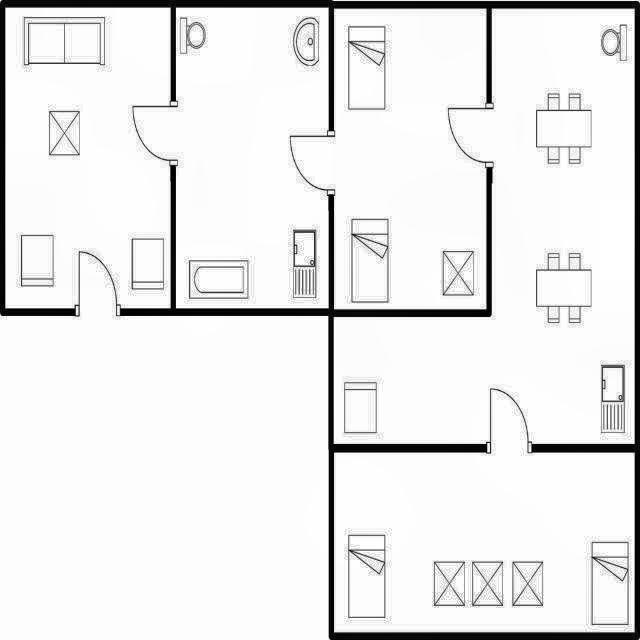room: (334, 8, 635, 444), (334, 452, 635, 633), (5, 8, 171, 309), (176, 7, 329, 308), (334, 9, 486, 310)
